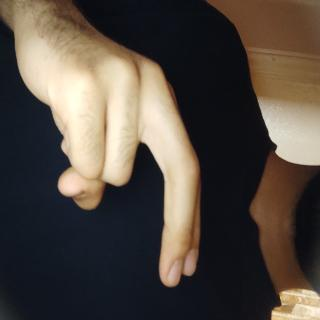ZAY: (5, 147, 218, 320)
